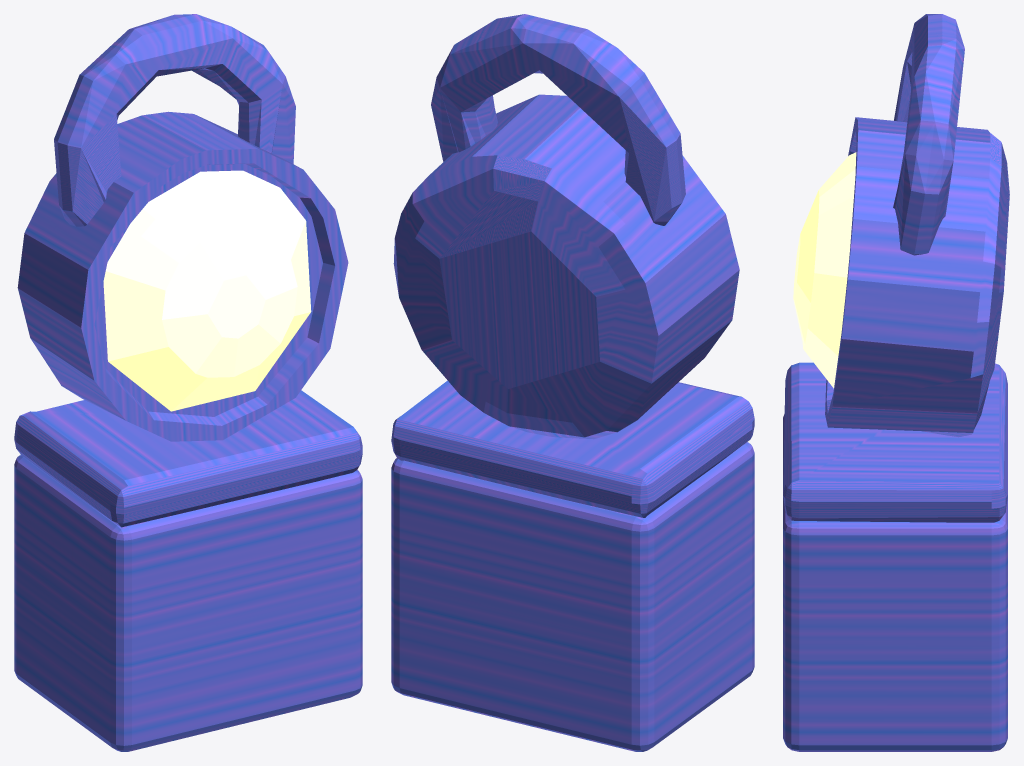
File: Lamp.glb
The picture shows the model from 3 angles, left to right: view 1: azimuth 30°, elevation 25°; view 2: azimuth 150°, elevation 25°; view 3: azimuth 270°, elevation 25°; orthographic projection. The views are drawn at different scales.
Visible parts, largest first — view 1: Cube; view 2: Cube; view 3: Cube.
Part boxes in pixels (bbox=[...]): Cube: bbox=[14, 14, 362, 751]; Cube: bbox=[391, 14, 754, 751]; Cube: bbox=[783, 14, 1009, 751].
Bounding box in the file's own units: 0.2435 × 0.5666 × 0.1751.
Materials: 2 (1 with a texture image).
